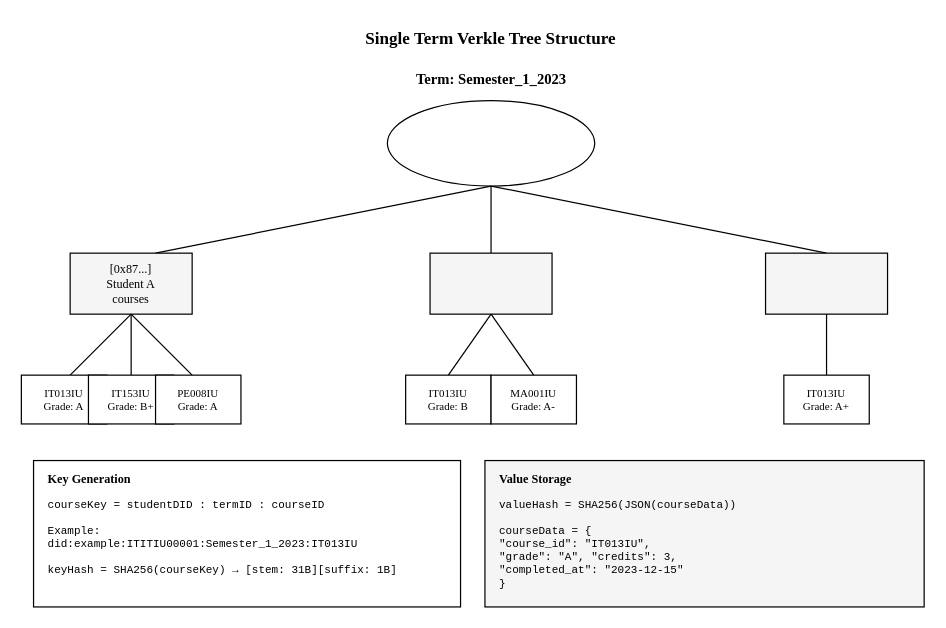
The diagram is 946 pixels wide and 628 high, and some of its shapes have lost their labels. The centre of each missing label's shape, as x and y in pixels:
[0x4a...] Student B courses: point 490,283
[0xf2...] Student C courses: point 826,283
Root (32-byte commitment) 0x7f3a...bc12: point 490,142
